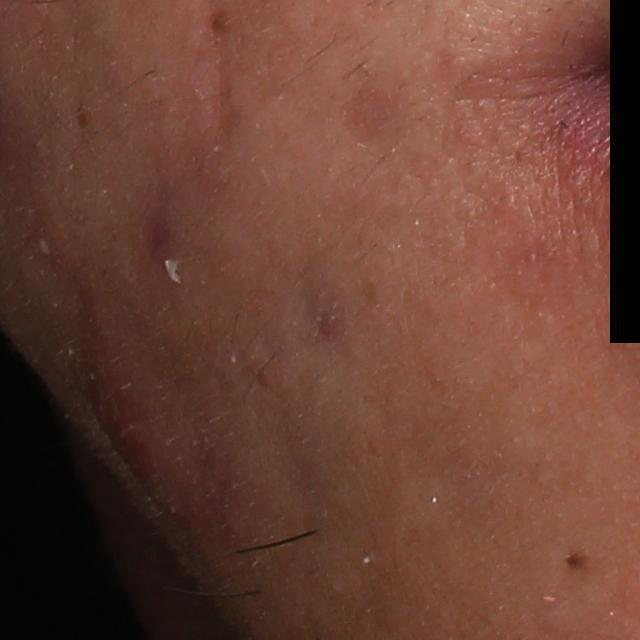nevus: (559, 545, 592, 572)
